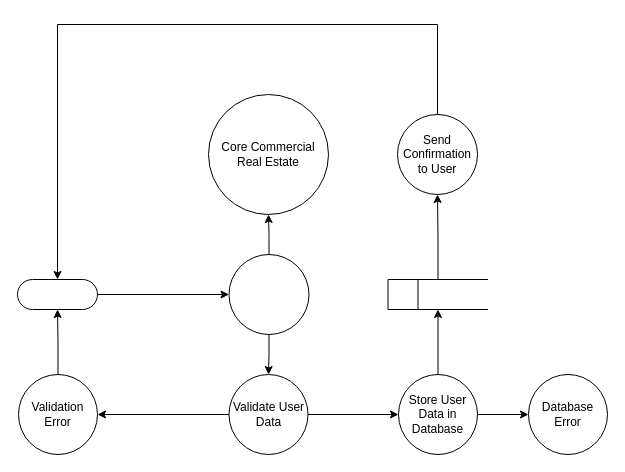
This 625x472 diagram has some shape labels left out. Here are the shapes that lost their labels. From the top down, the box of each, then its label:
(16, 278, 98, 310): User
(228, 254, 309, 334): Register User
(387, 278, 488, 310): User Details Database
